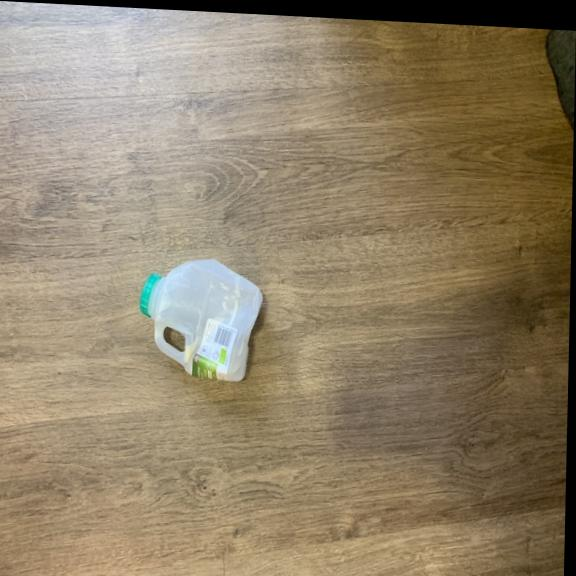Plastik: (136, 247, 274, 389)
